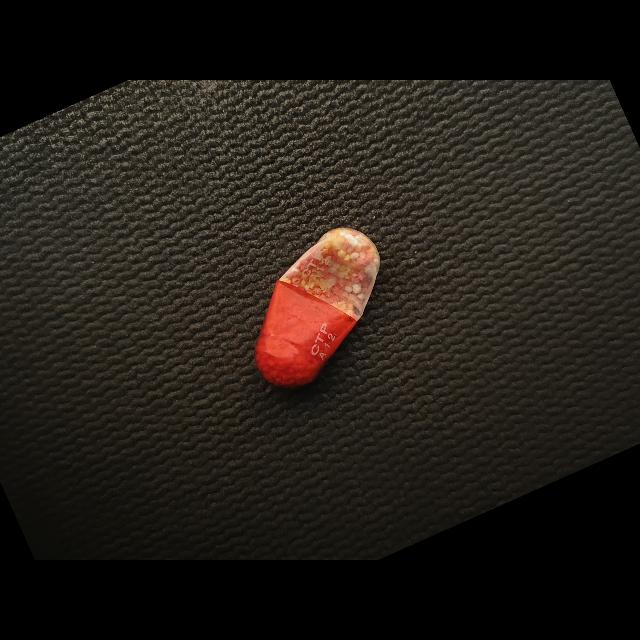Defective Capsule: (262, 228, 380, 359)
